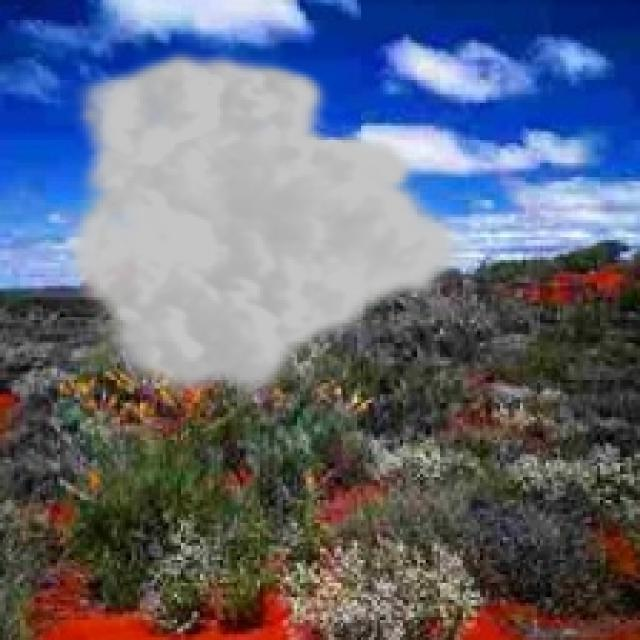smoke: (63, 46, 471, 406)
